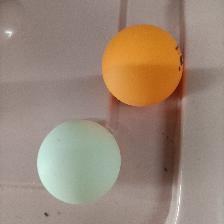WhiteBall: (36, 119, 121, 204)
YellowBall: (101, 23, 183, 107)
